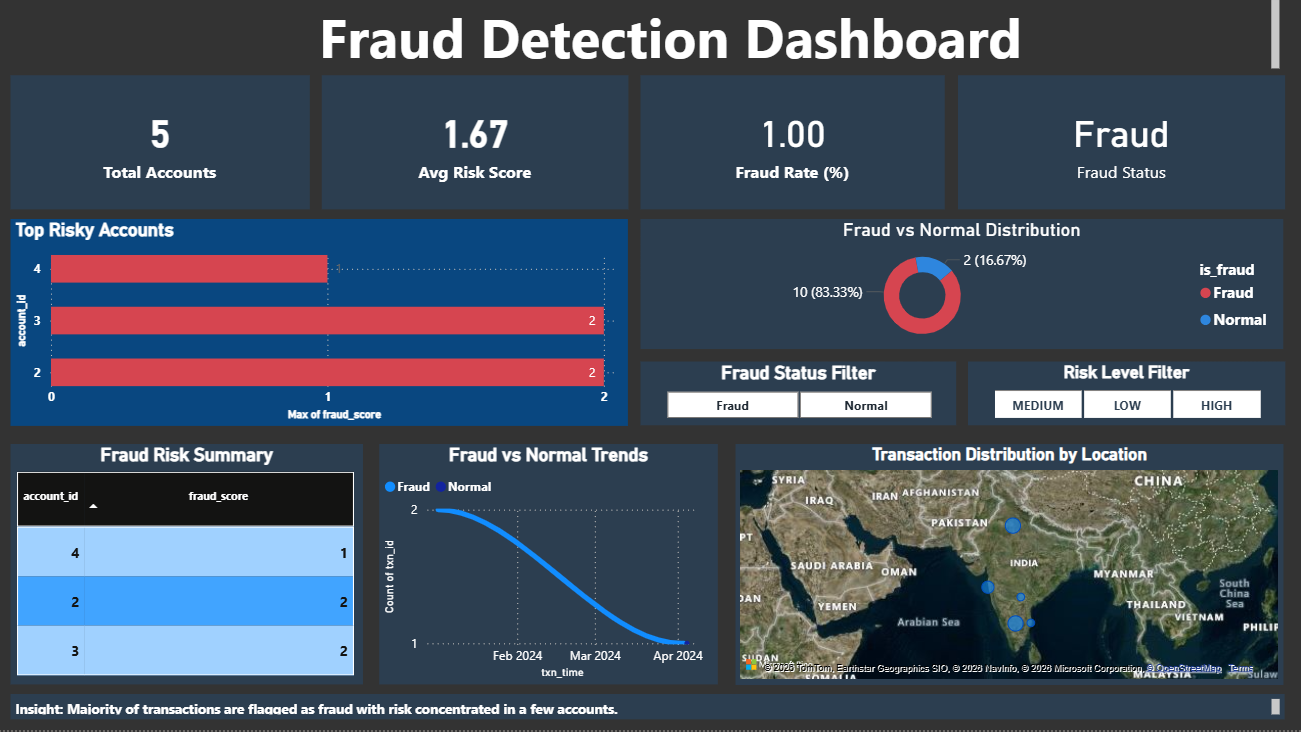

The page's visual inventory and layout, read from the dashboard file:
{"tool":"powerbi","page":{"name":"Page 1","canvas":[1280,720],"ordinal":0},"visuals":[{"type":"tableEx","title":"Fraud Risk Summary","fields":{"Values":["fraud_detection_project final_fraud_analysis.account_id","fraud_detection_project final_fraud_analysis.fraud_score"]},"box":[12.5,440,345,235],"z":0},{"type":"actionButton","box":[0,0,100,40],"z":1000},{"type":"lineChart","title":"Fraud vs Normal Trends","fields":{"Y":["CountNonNull(fraud_detection_project fraud_features.txn_id)"],"Series":["fraud_detection_project final_fraud_analysis.is_fraud"],"Category":["fraud_detection_project fraud_features.txn_time"]},"box":[372.5,440,331.2,235],"z":2000},{"type":"map","title":"Transaction Distribution by Location","fields":{"Category":["fraud_detection_project fraud_features.location"],"Size":["CountNonNull(fraud_detection_project fraud_features.txn_id)"]},"box":[721.2,440,536.2,235],"z":3000},{"type":"card","fields":{"Values":["Count(fraud_detection_project fraud_features.account_id)"]},"box":[12.5,80,292.5,131.2],"z":4000},{"type":"card","fields":{"Values":["Avg(fraud_detection_project final_fraud_analysis.fraud_score)"]},"box":[316.2,80,300,131.2],"z":5000},{"type":"textbox","box":[0,0,1258.3,79.5],"z":7000},{"type":"card","fields":{"Values":["Min(fraud_detection_project final_fraud_analysis.Fraud_Flag)"]},"box":[938.8,80,320,131.2],"z":8000},{"type":"card","fields":{"Values":["fraud_detection_project final_fraud_analysis.Fraud %"]},"box":[628.8,80,297.5,131.2],"z":9000},{"type":"donutChart","title":"Fraud vs Normal Distribution","fields":{"Category":["fraud_detection_project final_fraud_analysis.is_fraud"],"Y":["CountNonNull(fraud_detection_project fraud_features.txn_id)"]},"box":[628.8,220,628.8,127.5],"z":10000},{"type":"clusteredBarChart","title":"Top Risky Accounts","fields":{"Category":["fraud_detection_project final_fraud_analysis.account_id"],"Y":["Max(fraud_detection_project final_fraud_analysis.fraud_score)"]},"box":[12.5,220,603.8,202.5],"z":11000},{"type":"slicer","title":"Fraud Status Filter","fields":{"Values":["fraud_detection_project final_fraud_analysis.is_fraud"]},"box":[628.8,360,308.8,62.5],"z":12000},{"type":"slicer","title":"Risk Level Filter","fields":{"Values":["fraud_detection_project fraud_features.risk_level"]},"box":[948.8,360,310,62.5],"z":13000},{"type":"textbox","box":[12.5,685,1246.2,25],"z":13001}]}

Visuals, with their boxes in screenshot pixels (x1, y1, x2, y2), scaled from the page's 1280x720 canvas onto the 1301x732 screenshot:
"Fraud Risk Summary" tableEx: x1=13 y1=447 x2=363 y2=686
actionButton: x1=0 y1=0 x2=102 y2=41
"Fraud vs Normal Trends" lineChart: x1=379 y1=447 x2=715 y2=686
"Transaction Distribution by Location" map: x1=733 y1=447 x2=1278 y2=686
card - Count(fraud_detection_project fraud_features.account_id): x1=13 y1=81 x2=310 y2=215
card - Avg(fraud_detection_project final_fraud_analysis.fraud_score): x1=321 y1=81 x2=626 y2=215
textbox: x1=0 y1=0 x2=1279 y2=81
card - Min(fraud_detection_project final_fraud_analysis.Fraud_Flag): x1=954 y1=81 x2=1279 y2=215
card - fraud_detection_project final_fraud_analysis.Fraud %: x1=639 y1=81 x2=941 y2=215
"Fraud vs Normal Distribution" donutChart: x1=639 y1=224 x2=1278 y2=353
"Top Risky Accounts" clusteredBarChart: x1=13 y1=224 x2=626 y2=430
"Fraud Status Filter" slicer: x1=639 y1=366 x2=953 y2=430
"Risk Level Filter" slicer: x1=964 y1=366 x2=1279 y2=430
textbox: x1=13 y1=696 x2=1279 y2=722
